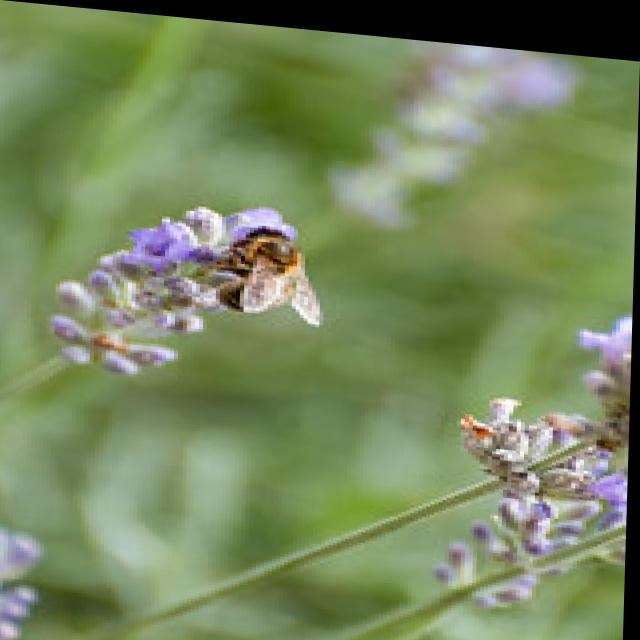Abeille: (211, 192, 352, 331)
